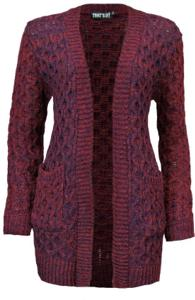S_cardigan sweater: (10, 6, 195, 295)
